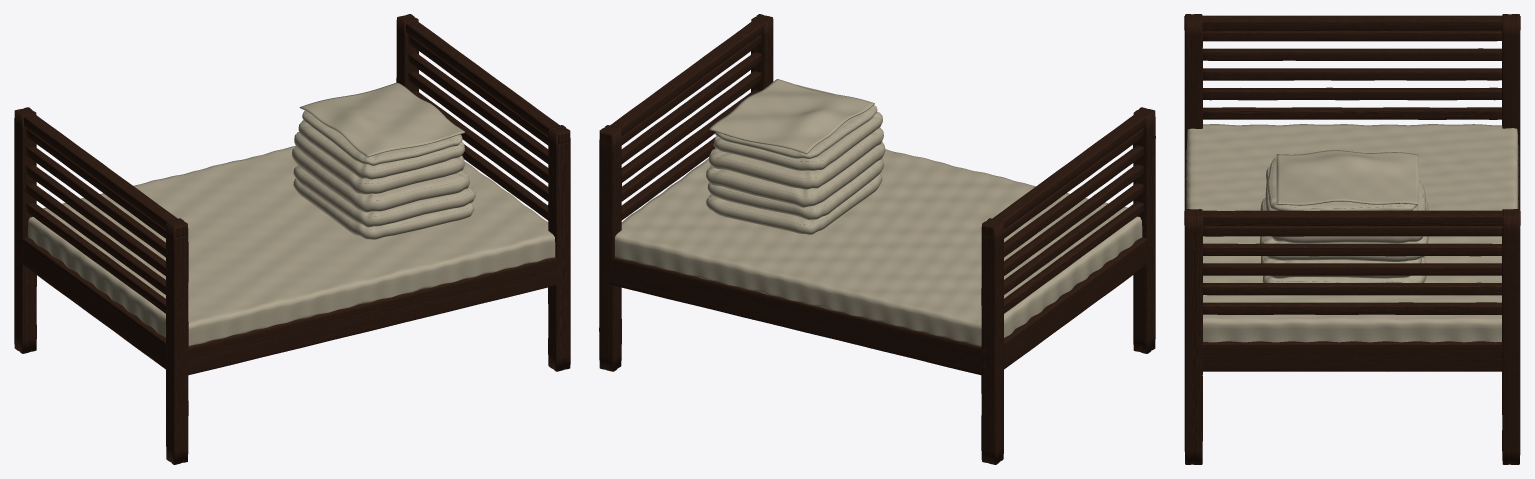
Rendered from inspect_bed.glb.
The picture shows the model from 3 angles, left to right: view 1: azimuth 30°, elevation 25°; view 2: azimuth 150°, elevation 25°; view 3: azimuth 270°, elevation 25°; orthographic projection. The views are drawn at different scales.
Visible parts, largest first — view 1: bedroom_bed_review_20261020_unbleached_cotton, bedroom_bed_review_20261020_bed_aged_lacquer, review_bed_review_20261020_cotton_seam; view 2: bedroom_bed_review_20261020_unbleached_cotton, bedroom_bed_review_20261020_bed_aged_lacquer, review_bed_review_20261020_cotton_seam; view 3: bedroom_bed_review_20261020_bed_aged_lacquer, bedroom_bed_review_20261020_unbleached_cotton, review_bed_review_20261020_cotton_seam.
Boxes of the visible parts, x1,y1,x2,y2 form: bedroom_bed_review_20261020_unbleached_cotton: [28, 82, 555, 346]; bedroom_bed_review_20261020_bed_aged_lacquer: [14, 14, 570, 464]; review_bed_review_20261020_cotton_seam: [294, 111, 472, 229]; bedroom_bed_review_20261020_unbleached_cotton: [615, 79, 1142, 346]; bedroom_bed_review_20261020_bed_aged_lacquer: [599, 14, 1155, 464]; review_bed_review_20261020_cotton_seam: [708, 84, 882, 225]; bedroom_bed_review_20261020_bed_aged_lacquer: [1184, 14, 1520, 464]; bedroom_bed_review_20261020_unbleached_cotton: [1186, 124, 1518, 342]; review_bed_review_20261020_cotton_seam: [1262, 157, 1426, 282].
Bounding box in the file's own units: 2 × 1.14 × 1.4.
4 materials, 3 textured.
